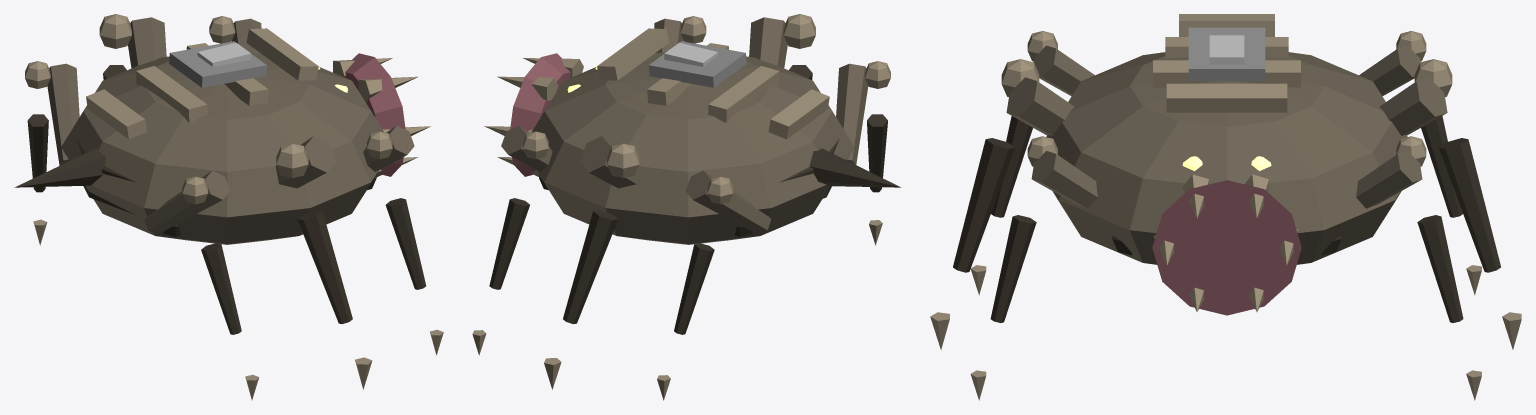
Rendered from bl_skitter.glb.
The picture shows the model from 3 angles, left to right: view 1: azimuth 30°, elevation 25°; view 2: azimuth 150°, elevation 25°; view 3: azimuth 270°, elevation 25°; orthographic projection. The views are drawn at different scales.
Parts seen in each view (by area): view 1: body, leg_3_b, leg_1_a, leg_0_b, leg_5_a, leg_2_a, leg_4_b; view 2: body, leg_2_a, leg_0_b, leg_1_a, leg_4_b, leg_3_b, leg_5_a; view 3: body, leg_2_a, leg_3_b, leg_5_a, leg_4_b, leg_1_a, leg_0_b.
Part boxes in pixels (x1,y1,x2,y2): body: [14, 28, 430, 244]; leg_3_b: [275, 136, 372, 389]; leg_1_a: [144, 170, 259, 400]; leg_0_b: [25, 61, 79, 245]; leg_5_a: [363, 125, 443, 355]; leg_2_a: [99, 14, 166, 79]; leg_4_b: [209, 16, 261, 53]; body: [484, 28, 900, 244]; leg_2_a: [544, 136, 639, 389]; leg_0_b: [657, 170, 771, 400]; leg_1_a: [836, 61, 890, 245]; leg_4_b: [472, 125, 552, 355]; leg_3_b: [749, 14, 815, 79]; leg_5_a: [654, 16, 706, 53]; body: [1046, 14, 1407, 315]; leg_2_a: [1379, 59, 1521, 349]; leg_3_b: [930, 59, 1074, 349]; leg_5_a: [970, 136, 1132, 400]; leg_4_b: [1321, 136, 1481, 400]; leg_1_a: [970, 31, 1094, 295]; leg_0_b: [1359, 31, 1481, 295].
Bounding box in the file's own units: 17 × 10.44 × 18.99.
